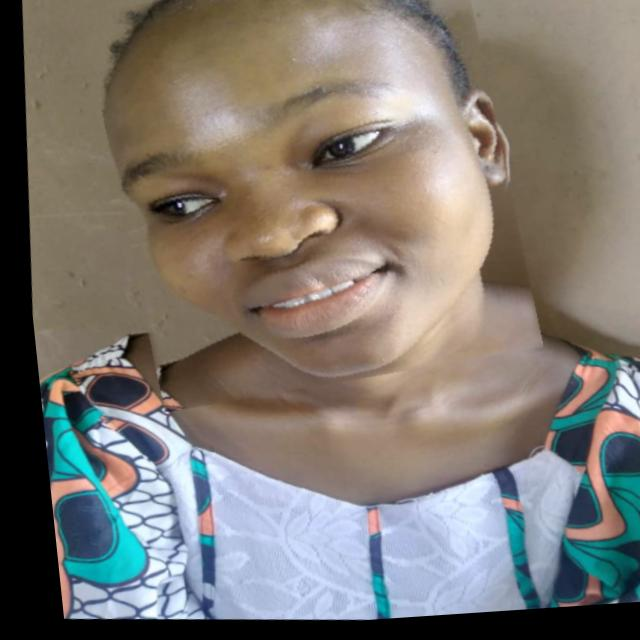happy: (68, 0, 548, 425)
